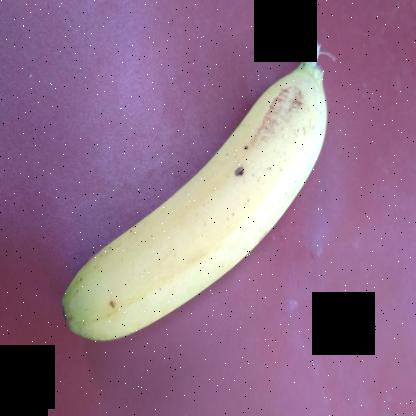freshripe: (53, 61, 331, 358)
